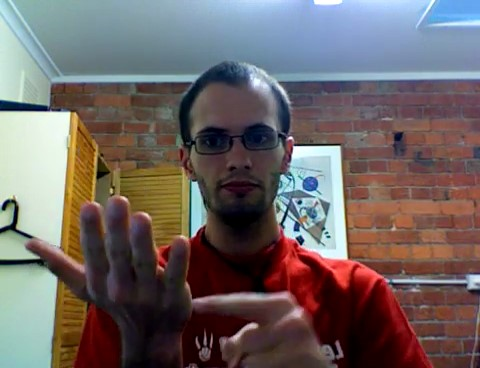T: (20, 187, 342, 365)
